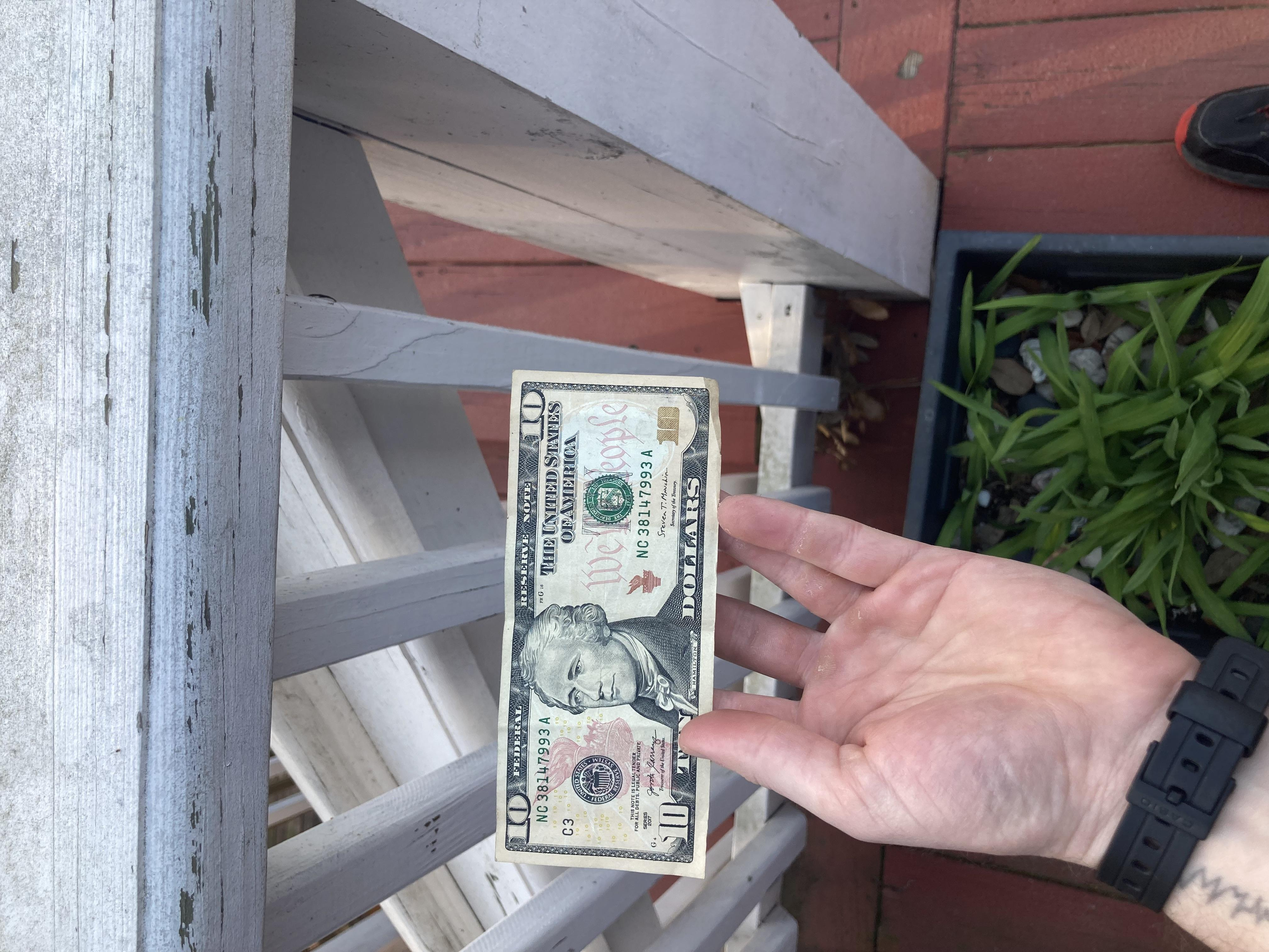ten-front: (96, 372, 778, 545)
